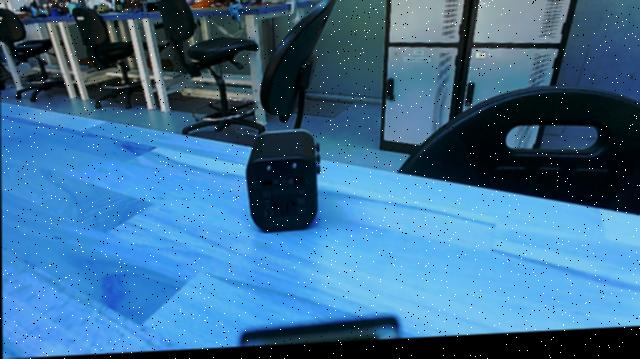adapter: (246, 130, 320, 243)
